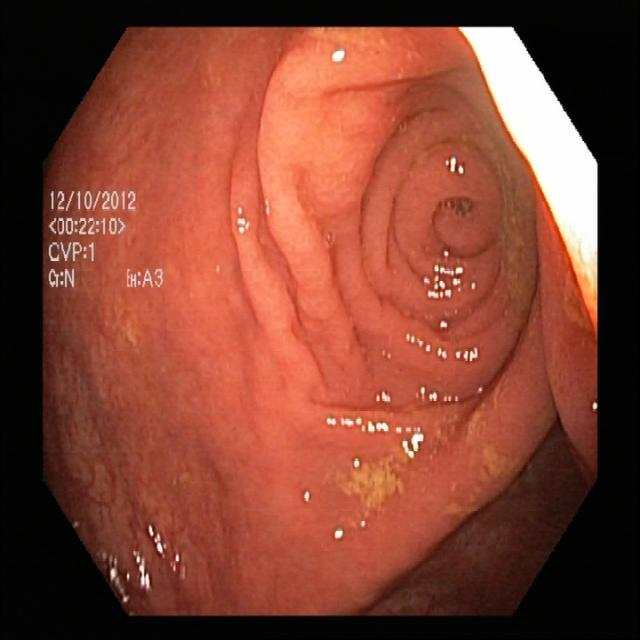normal-cecum: (450, 380, 535, 500), (328, 439, 425, 523)
